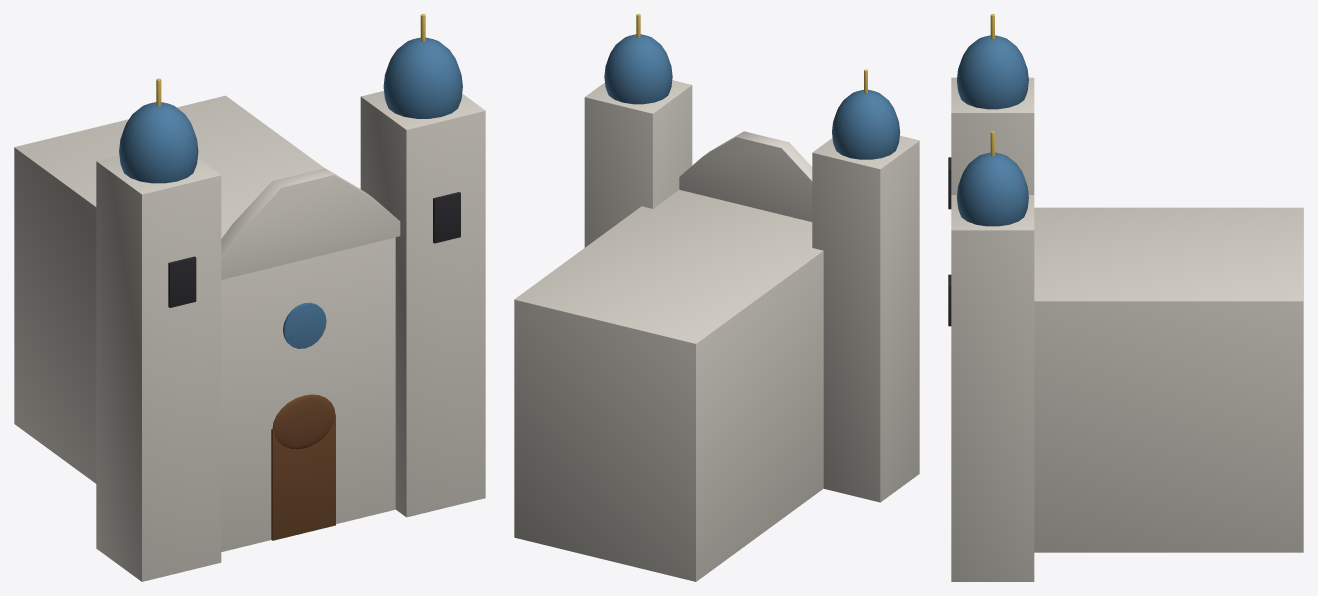
File: rg_colonial_2.glb
3 renders of one model, left to right at view 1: azimuth 30°, elevation 25°; view 2: azimuth 150°, elevation 25°; view 3: azimuth 270°, elevation 25°, orthographic. The views are drawn at different scales.
Visible parts, largest first — view 1: rg_colonial_2; view 2: rg_colonial_2; view 3: rg_colonial_2.
Part boxes in pixels (bbox=[...]): rg_colonial_2: bbox=[14, 14, 485, 581]; rg_colonial_2: bbox=[514, 14, 919, 581]; rg_colonial_2: bbox=[948, 14, 1303, 581].
Bounding box in the file's own units: 13 × 17.2 × 12.8.
